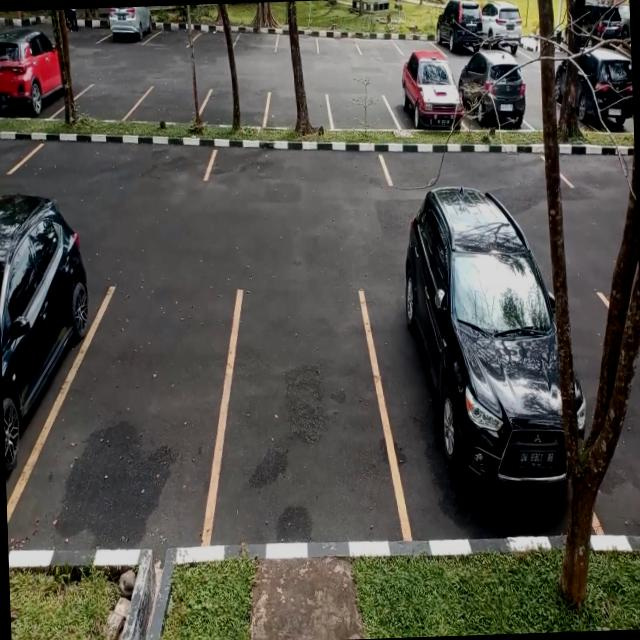car: (375, 223, 566, 541), (0, 216, 95, 522), (0, 40, 65, 121), (389, 59, 463, 130), (463, 56, 530, 130), (438, 5, 485, 54), (106, 6, 152, 46)
free: (216, 289, 390, 552), (86, 287, 235, 554), (18, 134, 215, 190), (204, 140, 387, 193), (138, 80, 208, 122), (326, 92, 394, 134), (202, 88, 269, 130), (72, 82, 139, 124), (262, 88, 328, 128), (275, 26, 318, 57), (317, 28, 361, 58), (234, 24, 278, 54), (154, 17, 197, 47), (192, 20, 234, 50), (358, 30, 401, 56)
